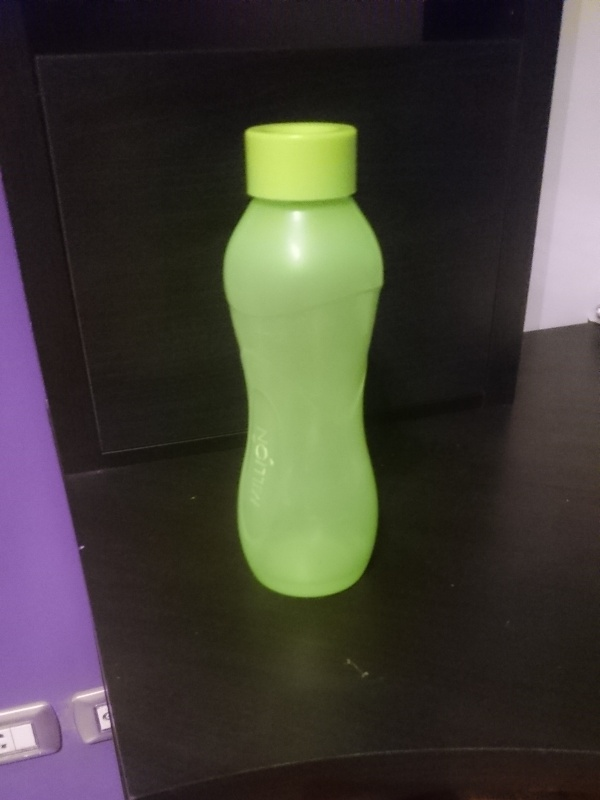my bottle: (219, 120, 384, 598)
